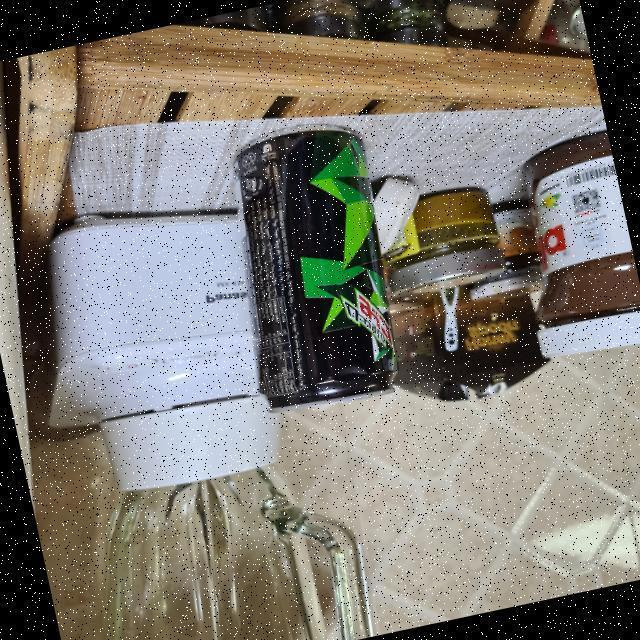BotolPlastik: (392, 188, 542, 422)
Kaleng: (233, 127, 398, 408)
